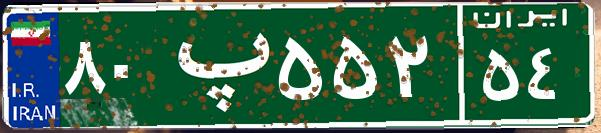0: (110, 28, 158, 105)
2: (385, 28, 445, 110)
4: (525, 38, 570, 115)
5: (273, 28, 330, 110), (330, 28, 385, 110), (475, 38, 525, 113)
8: (57, 26, 110, 107)
پ: (158, 15, 273, 115)
